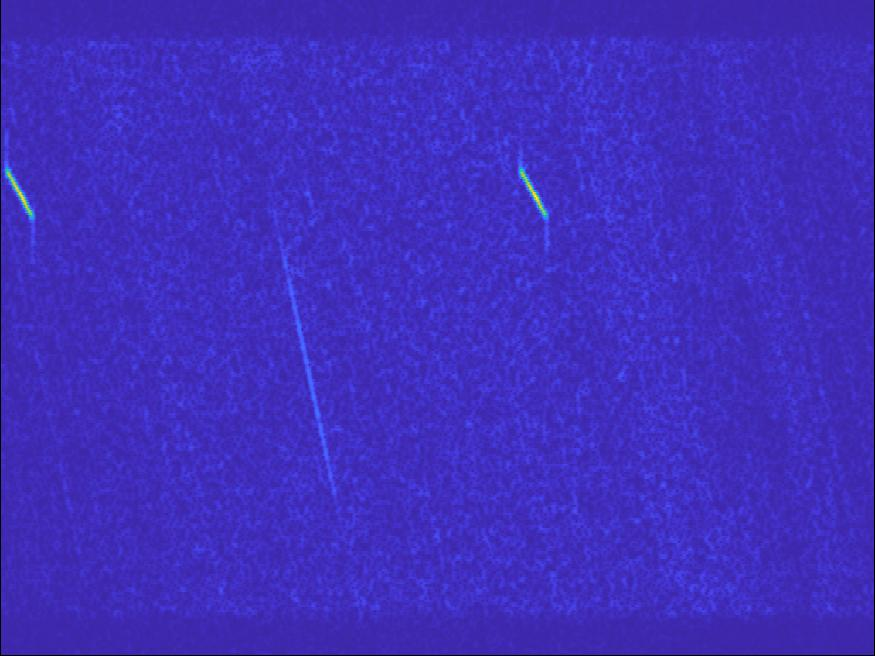Interference: (614, 379, 802, 509), (466, 291, 702, 356), (368, 399, 487, 447)
